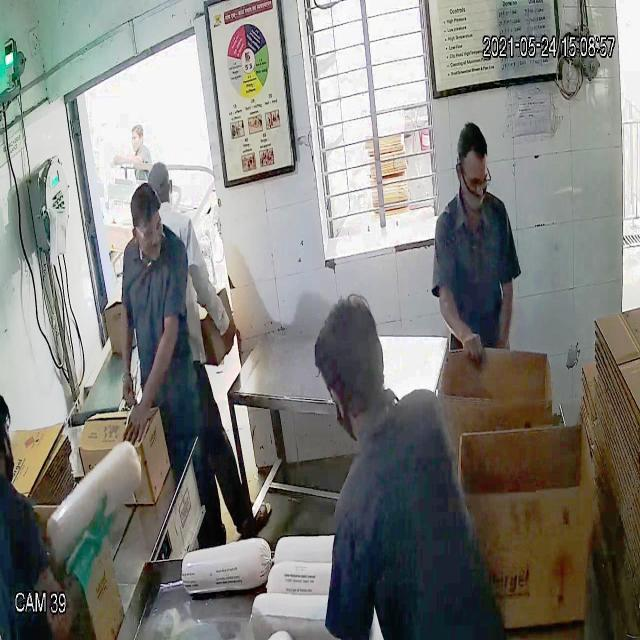glasses: (130, 212, 167, 250)
